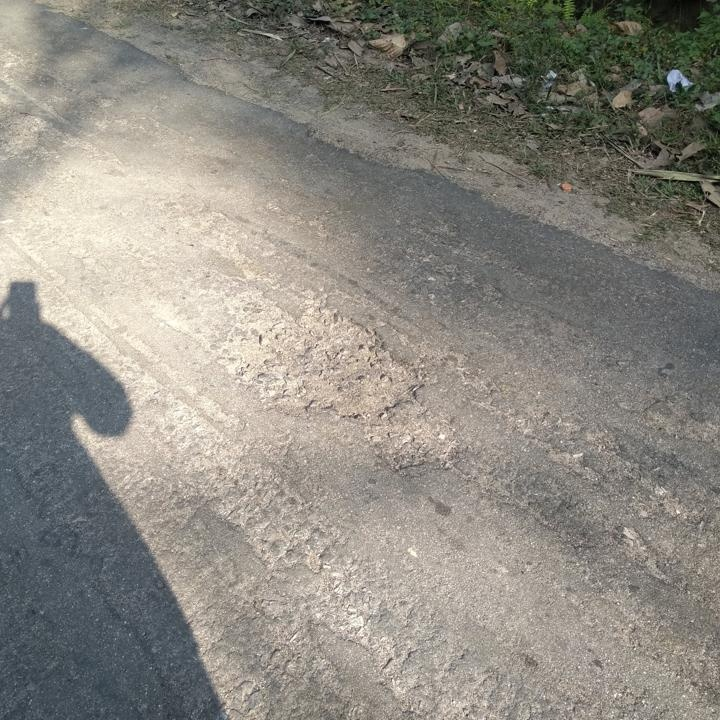pothole: (221, 296, 432, 422), (361, 418, 459, 477)
